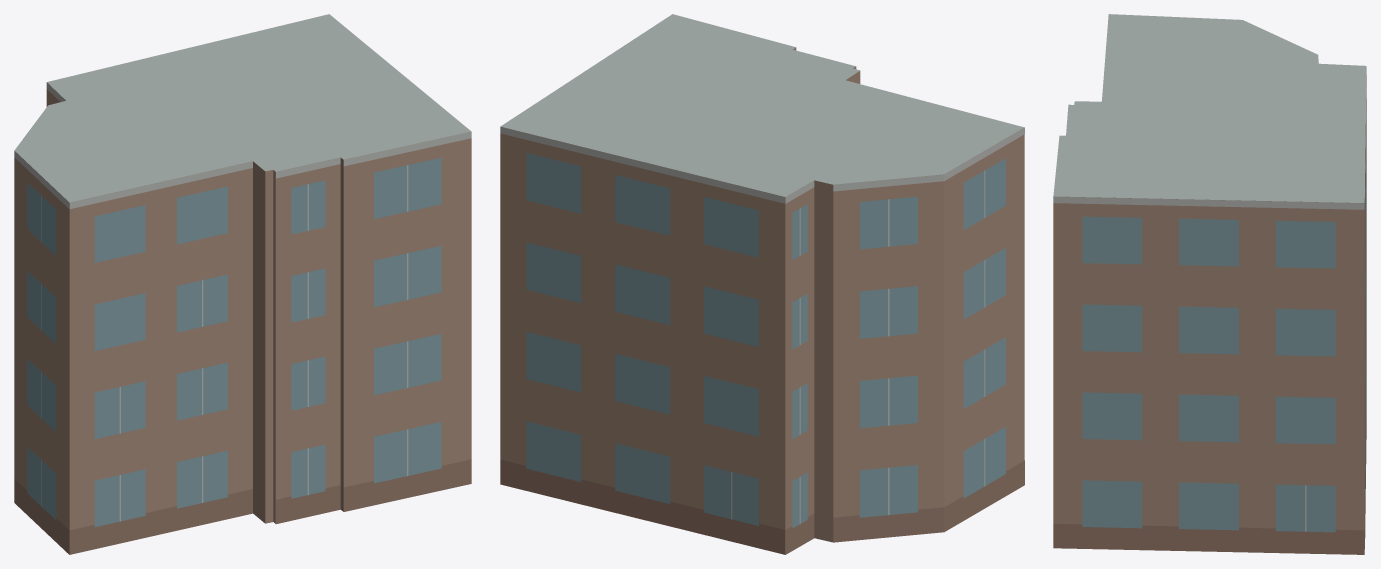
Rendered from survey-upis-32660483.glb.
3 renders of one model, left to right at view 1: azimuth 30°, elevation 25°; view 2: azimuth 150°, elevation 25°; view 3: azimuth 270°, elevation 25°, orthographic.
Visible parts, largest first — view 1: survey-upis-32660483.tmp; view 2: survey-upis-32660483.tmp; view 3: survey-upis-32660483.tmp.
Boxes of the visible parts, x1,y1,x2,y2 form: survey-upis-32660483.tmp: (14, 14, 471, 554); survey-upis-32660483.tmp: (500, 14, 1024, 554); survey-upis-32660483.tmp: (1053, 14, 1366, 554).
Bounding box in the file's own units: 14.77 × 12.8 × 10.34.
